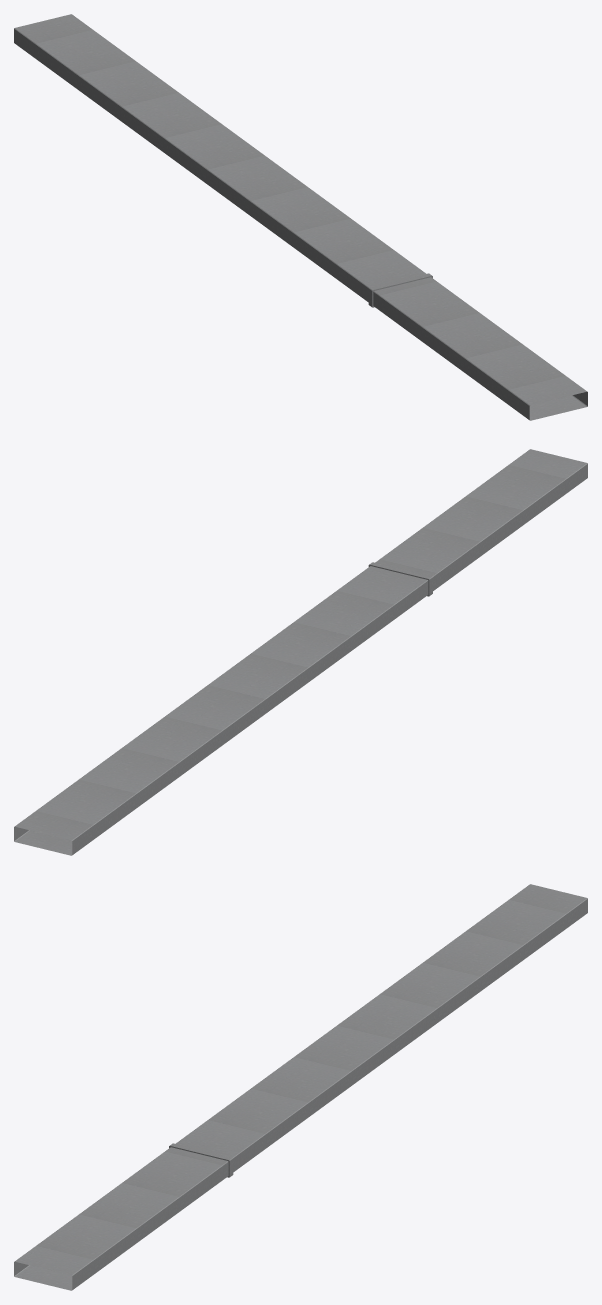
The model's file is AirCon2.fbx.
3 views of the same model, one above another, from view 1: azimuth 30°, elevation 25°; view 2: azimuth 150°, elevation 25°; view 3: azimuth 330°, elevation 25° (orthographic).
Parts seen in each view (by area): view 1: Empty_Mesh; view 2: Empty_Mesh; view 3: Empty_Mesh.
Part boxes in pixels (x1,y1,x2,y2): Empty_Mesh: [14, 14, 587, 420]; Empty_Mesh: [14, 449, 587, 855]; Empty_Mesh: [14, 884, 587, 1290].
Bounding box in the file's own units: 81.52 × 22.49 × 1200.
